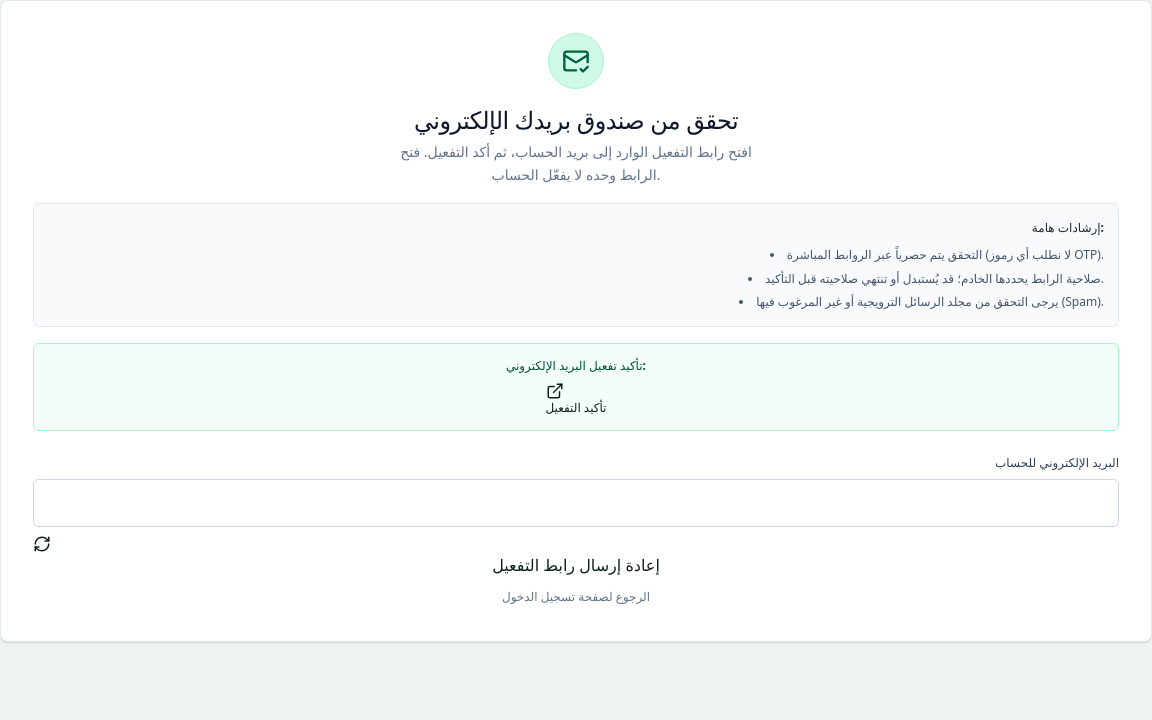
US2 registration and explicit activation › does not turn an unknown activation result into success or resubmit (0)
Click the button with aria-label "تأكيد تفعيل البريد الإلكتروني".
click(576, 398)  # box [546,382,606,416]
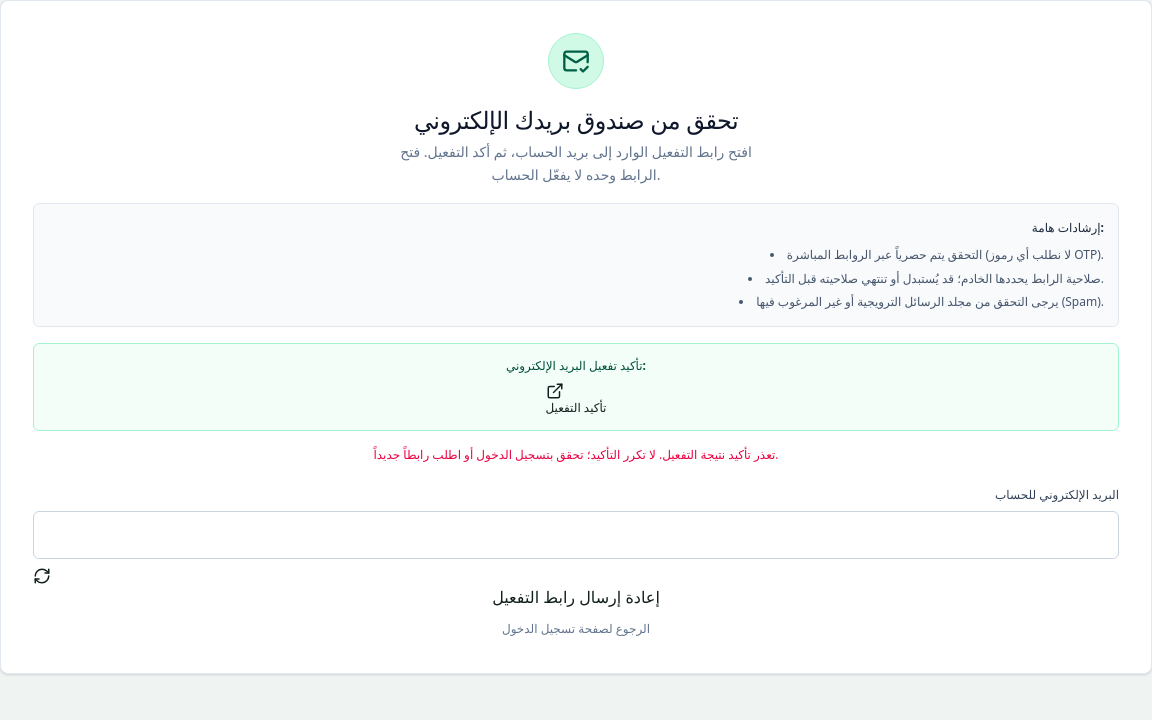
Now the message shows "تعذر تأكيد نتيجة التفعيل", box [374,446,779,462]
